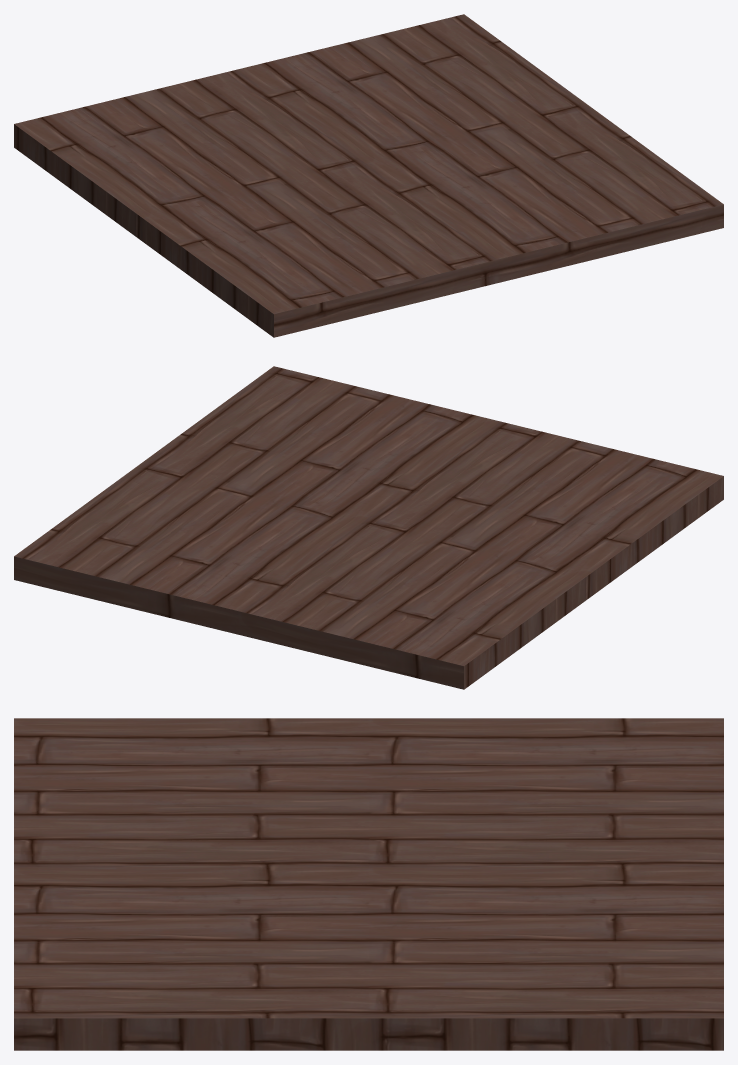
The model's file is FloorTestLea.fbx.
The picture shows the model from 3 angles, top to bottom: view 1: azimuth 30°, elevation 25°; view 2: azimuth 150°, elevation 25°; view 3: azimuth 270°, elevation 25°; orthographic projection. The views are drawn at different scales.
Parts seen in each view (by area): view 1: polySurface7, polySurface2, polySurface32, polySurface41, polySurface45, polySurface14, polySurface39, polySurface49, polySurface11, polySurface3, polySurface59, polySurface26 (+23 smaller); view 2: polySurface7, polySurface39, polySurface3, polySurface2, polySurface41, polySurface45, polySurface14, polySurface67, polySurface30, polySurface32, polySurface59, polySurface26 (+19 smaller); view 3: polySurface68, polySurface41, polySurface2, polySurface14, polySurface45, polySurface39, polySurface3, polySurface59, polySurface26, polySurface32, polySurface7, polySurface65 (+21 smaller).
Boxes of the visible parts, bbox=[...] form: polySurface7: bbox=[49, 143, 237, 289]; polySurface2: bbox=[163, 195, 342, 331]; polySurface32: bbox=[319, 161, 489, 293]; polySurface41: bbox=[348, 71, 520, 176]; polySurface45: bbox=[385, 140, 557, 245]; polySurface14: bbox=[125, 126, 295, 230]; polySurface39: bbox=[265, 52, 427, 150]; polySurface49: bbox=[478, 166, 611, 266]; polySurface11: bbox=[254, 220, 386, 321]; polySurface3: bbox=[42, 107, 204, 204]; polySurface59: bbox=[422, 55, 589, 158]; polySurface26: bbox=[198, 109, 363, 213]; polySurface7: bbox=[473, 516, 658, 663]; polySurface39: bbox=[169, 506, 332, 627]; polySurface3: bbox=[393, 561, 554, 682]; polySurface2: bbox=[514, 459, 696, 570]; polySurface41: bbox=[166, 459, 339, 565]; polySurface45: bbox=[290, 411, 461, 517]; polySurface14: bbox=[392, 515, 563, 619]; polySurface67: bbox=[20, 469, 180, 590]; polySurface30: bbox=[246, 523, 406, 645]; polySurface32: bbox=[371, 423, 542, 531]; polySurface59: bbox=[100, 442, 266, 546]; polySurface26: bbox=[323, 497, 491, 601]; polySurface68: bbox=[14, 1011, 723, 1050]; polySurface41: bbox=[259, 914, 616, 943]; polySurface2: bbox=[14, 736, 395, 765]; polySurface14: bbox=[260, 765, 613, 793]; polySurface45: bbox=[39, 885, 396, 914]; polySurface39: bbox=[395, 885, 723, 914]; polySurface3: bbox=[394, 736, 723, 765]; polySurface59: bbox=[257, 963, 613, 988]; polySurface26: bbox=[256, 813, 614, 839]; polySurface32: bbox=[14, 838, 388, 862]; polySurface7: bbox=[191, 718, 625, 738]; polySurface65: bbox=[31, 988, 388, 1012].
Size of the model in its own units: 200 by 10 by 200.
1 material, 1 textured.
